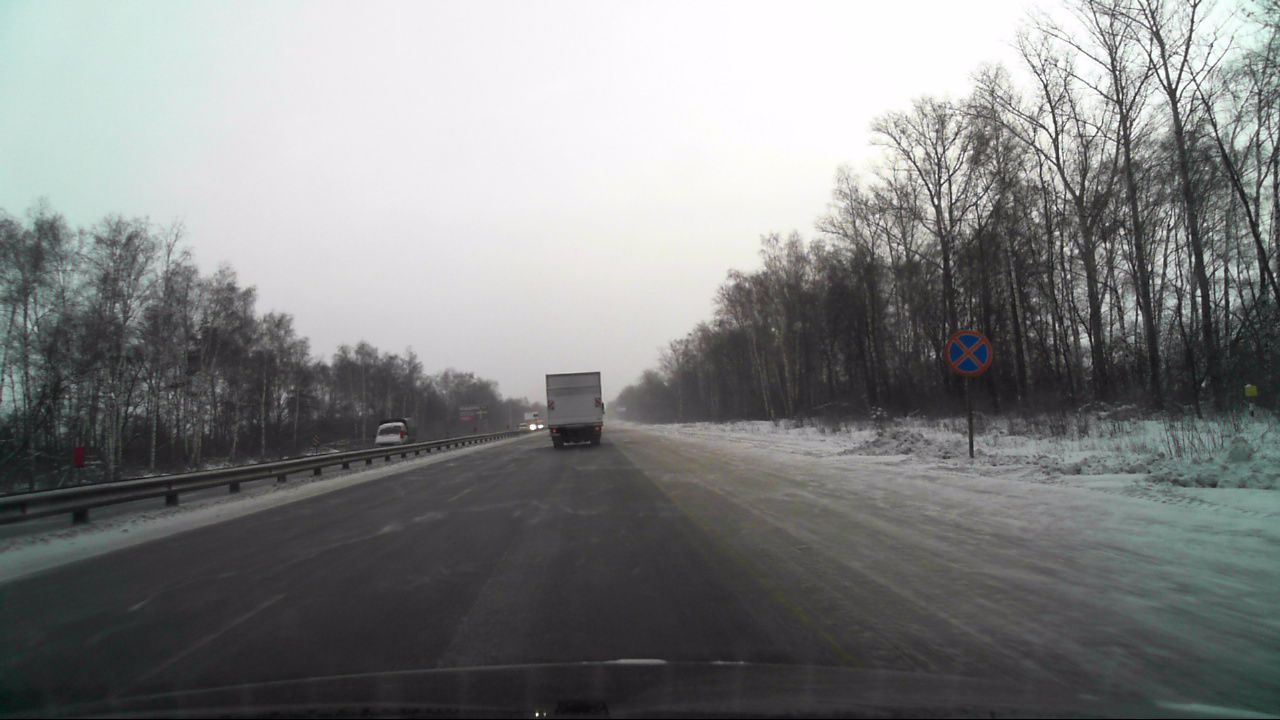No Parking: (944, 328, 991, 374)
